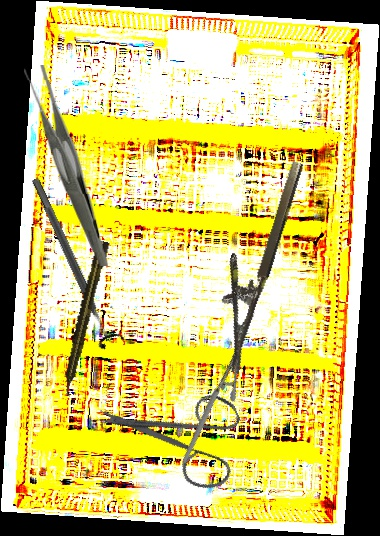Dressing Forceps: (24, 64, 108, 268)
Fixation Ring: (21, 172, 127, 353)
Handpiece: (57, 239, 112, 398)
Iris Scissors: (92, 356, 263, 522)
Needle Holder: (197, 151, 306, 375), (148, 331, 278, 464)
